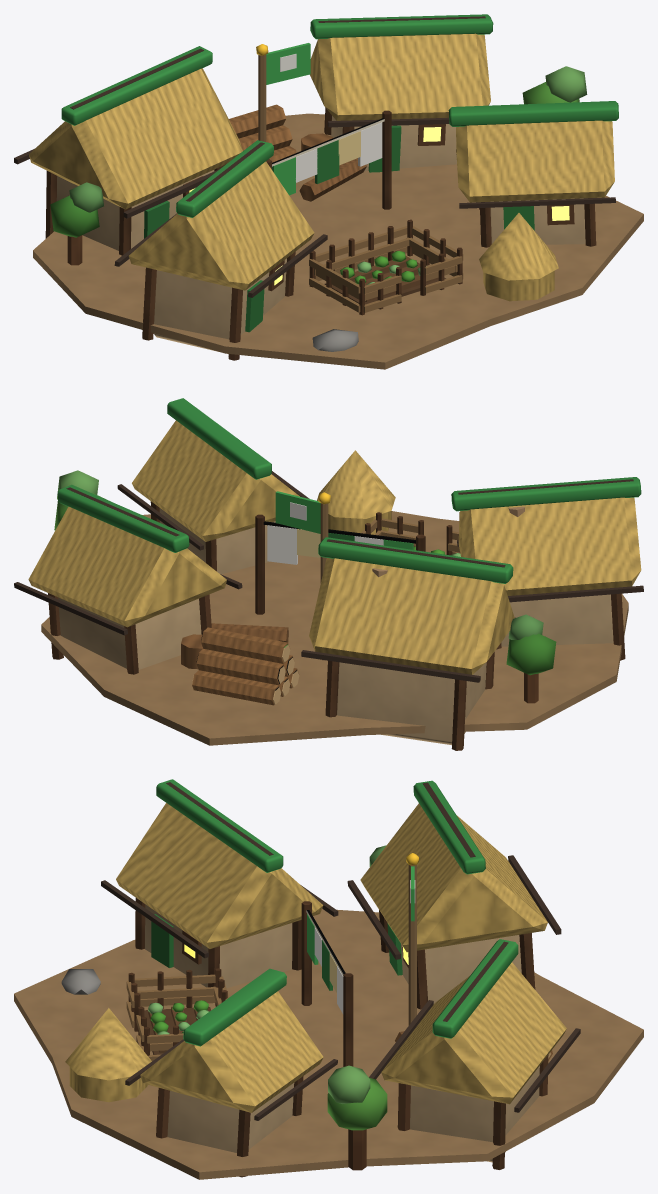
The model's file is city_dl1_green.glb.
3 views of the same model, one above another, from view 1: azimuth 30°, elevation 25°; view 2: azimuth 150°, elevation 25°; view 3: azimuth 270°, elevation 25° (orthographic). The views are drawn at different scales.
Parts seen in each view (by area): view 1: city_dl1_green; view 2: city_dl1_green; view 3: city_dl1_green.
Part boxes in pixels (x1,y1,x2,y2): city_dl1_green: [14, 14, 643, 369]; city_dl1_green: [14, 398, 643, 750]; city_dl1_green: [14, 779, 643, 1179].
Bounding box in the file's own units: 1.39 × 0.4779 × 1.37.
2 materials, 1 textured.
